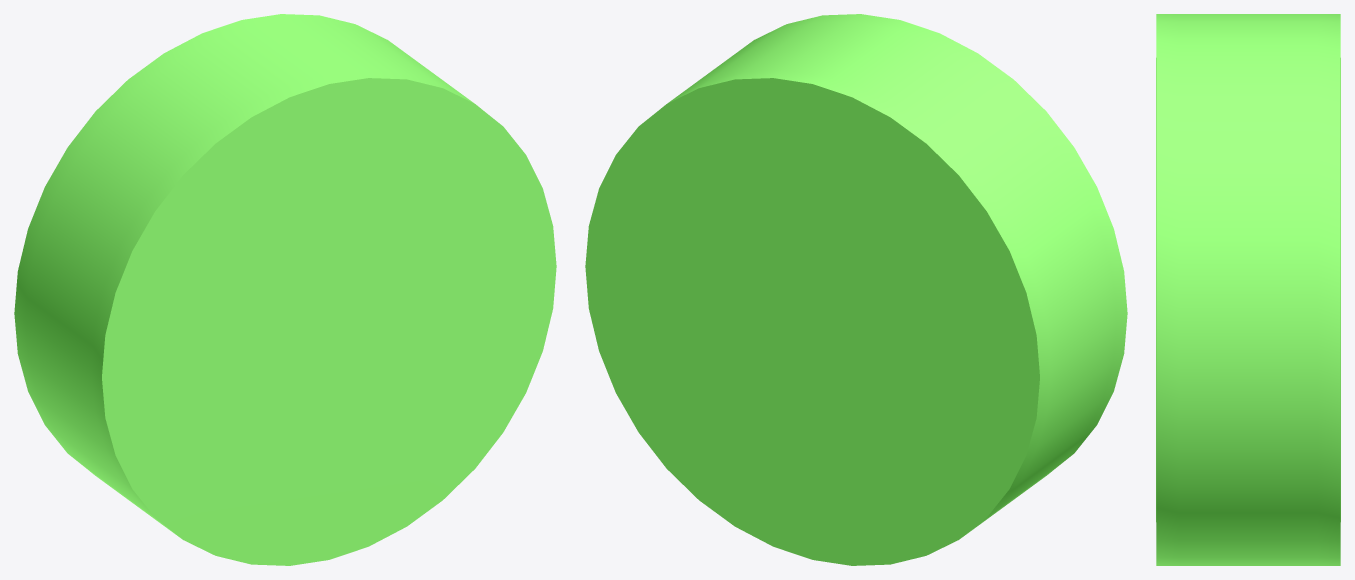
Rendered from Oil_Tank.gltf.
3 renders of one model, left to right at view 1: azimuth 30°, elevation 25°; view 2: azimuth 150°, elevation 25°; view 3: azimuth 270°, elevation 25°, orthographic. The views are drawn at different scales.
Parts seen in each view (by area): view 1: Oil_Tank; view 2: Oil_Tank; view 3: Oil_Tank.
Boxes of the visible parts, x1,y1,x2,y2 form: Oil_Tank: (14,14,556,565); Oil_Tank: (585,14,1127,565); Oil_Tank: (1156,14,1340,565).
Size of the model in its own units: 0.006 by 0.006 by 0.002.
